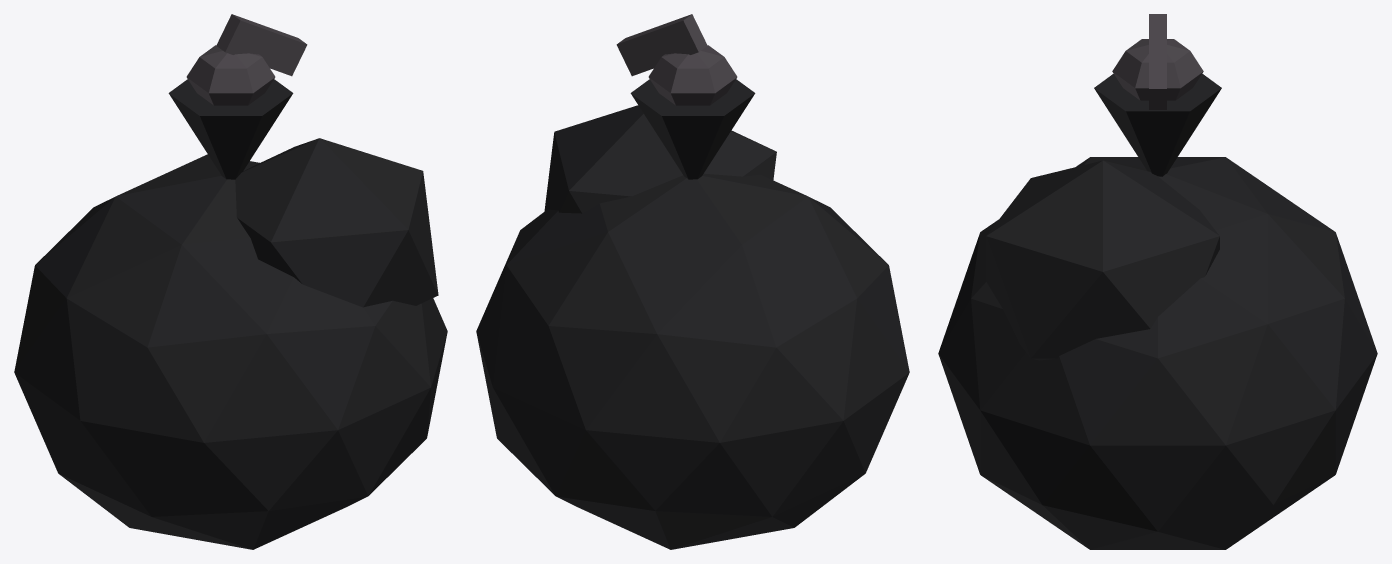
Rendered from prop_trash_bag.glb.
3 views of the same model, side by side, from view 1: azimuth 30°, elevation 25°; view 2: azimuth 150°, elevation 25°; view 3: azimuth 270°, elevation 25° (orthographic). The views are drawn at different scales.
Visible parts, largest first — view 1: prop_trash_bag; view 2: prop_trash_bag; view 3: prop_trash_bag.
Part boxes in pixels (x1,y1,x2,y2): prop_trash_bag: (14, 14, 447, 549); prop_trash_bag: (476, 14, 909, 549); prop_trash_bag: (938, 14, 1377, 549).
Size of the model in its own units: 0.4755 by 0.6323 by 0.48.
Materials: 1 (1 with a texture image).
